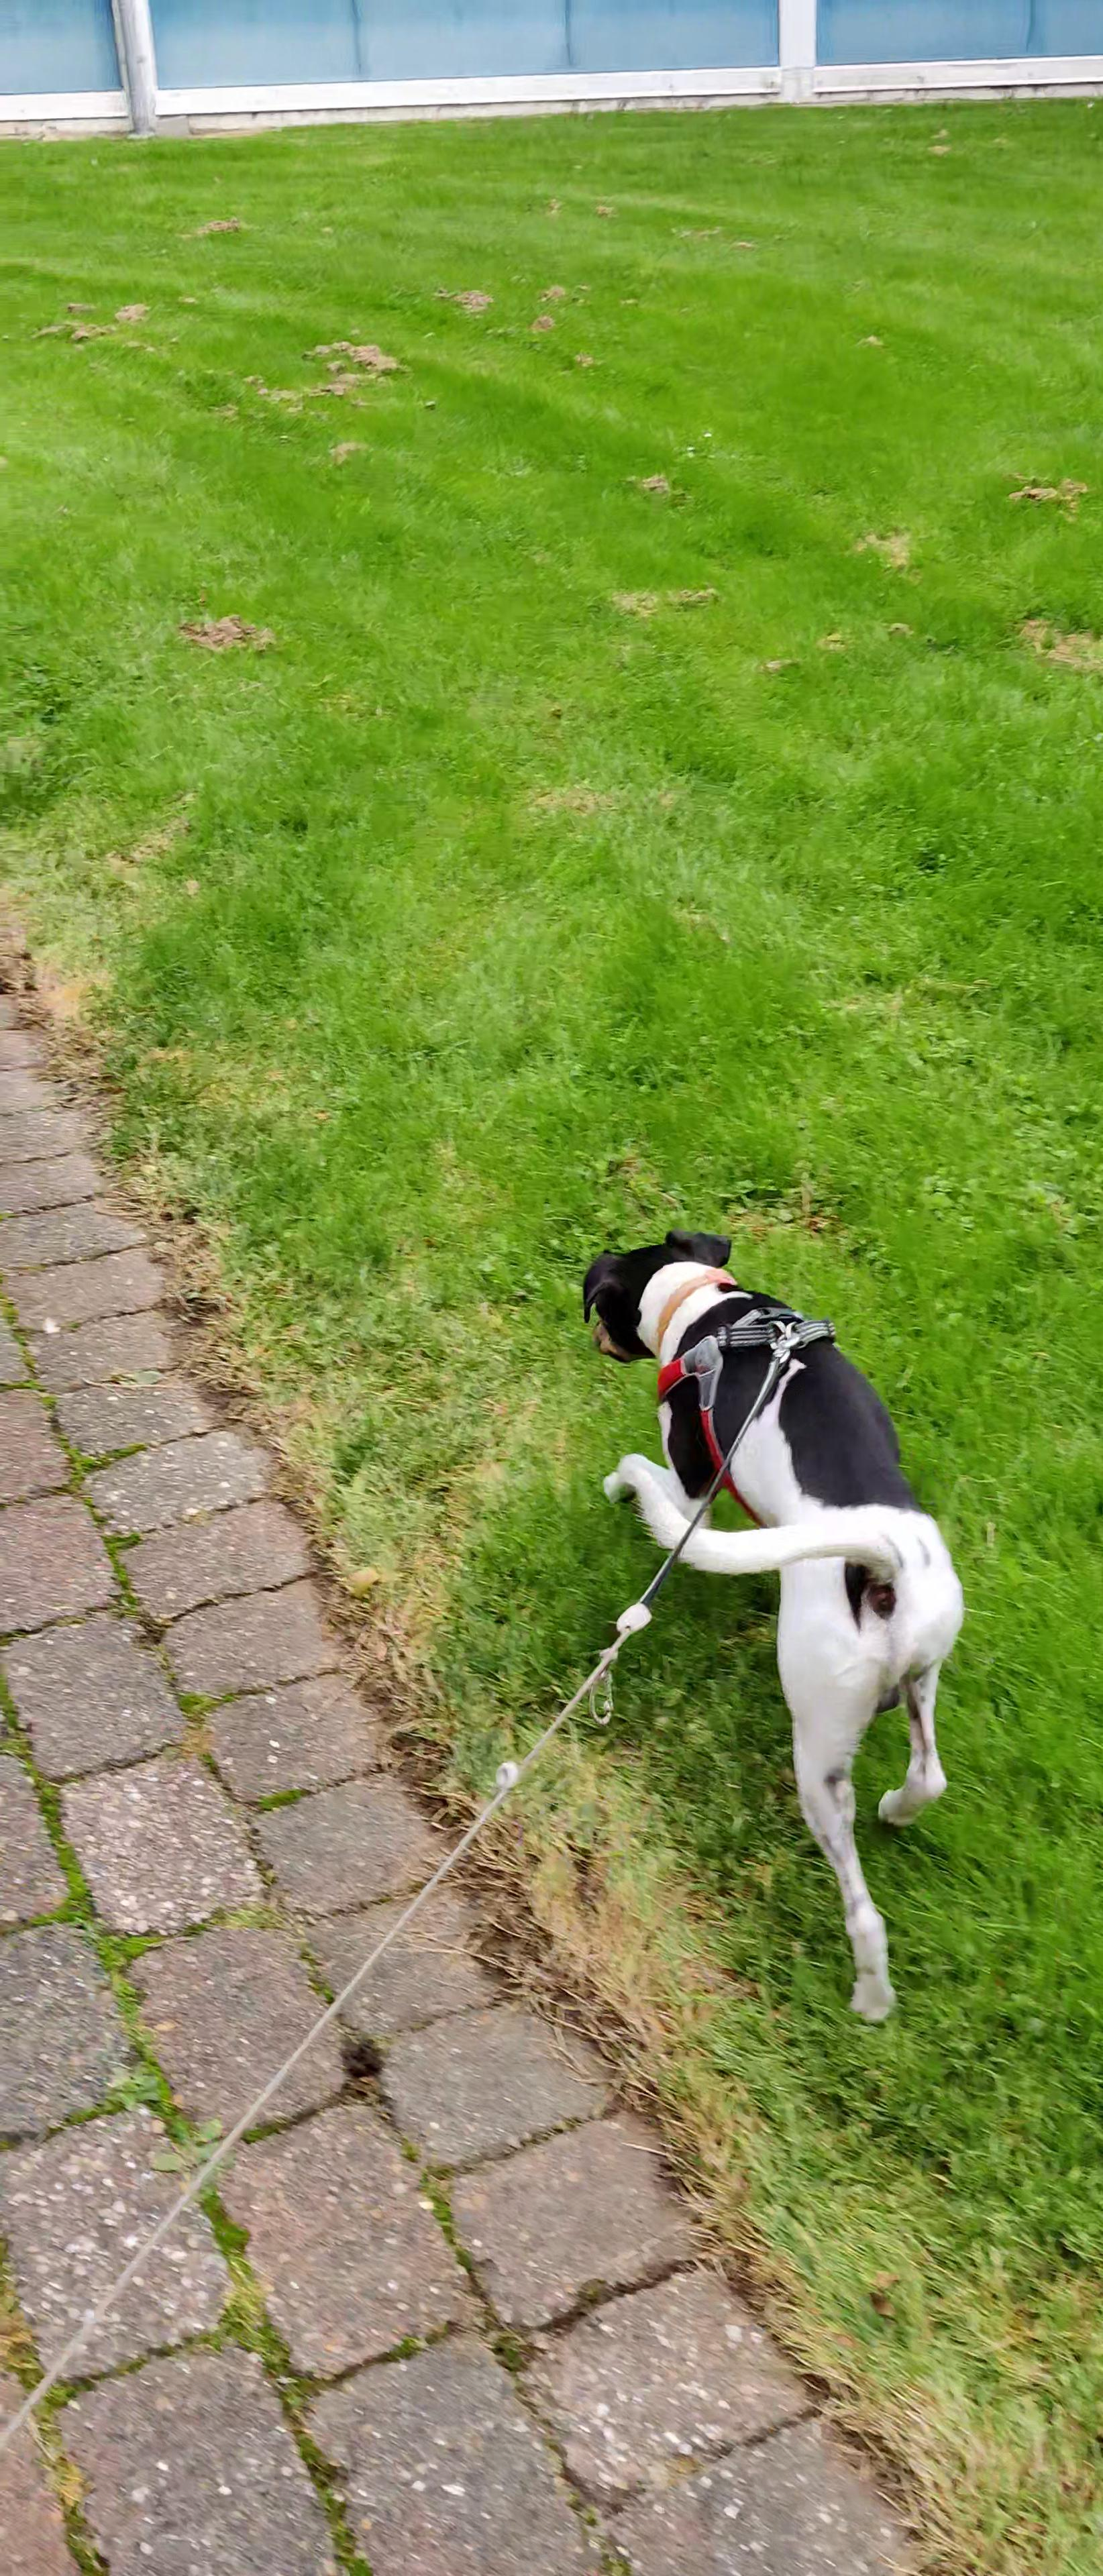Dog: (511, 1166, 1022, 2045)
